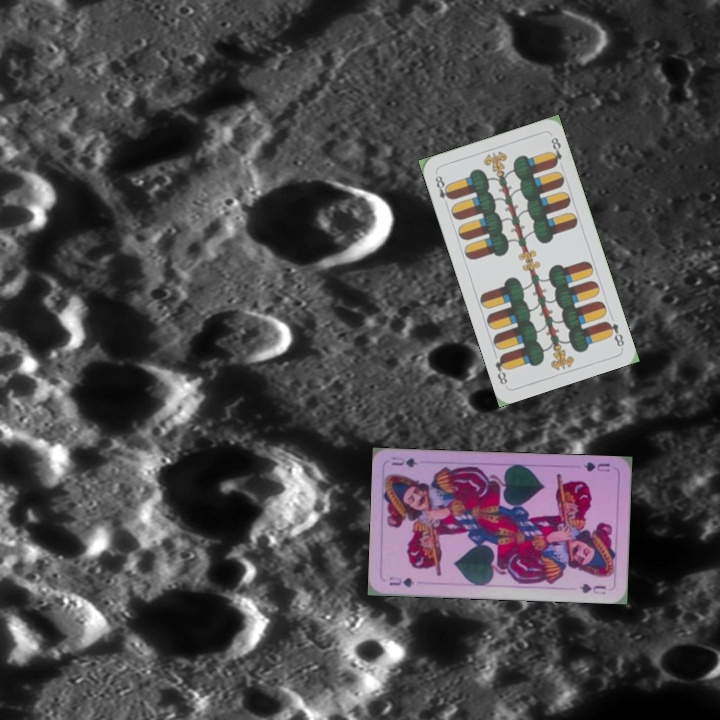E8: (431, 169, 454, 209), (601, 317, 627, 349)
GU: (385, 573, 416, 590), (580, 458, 612, 474)
